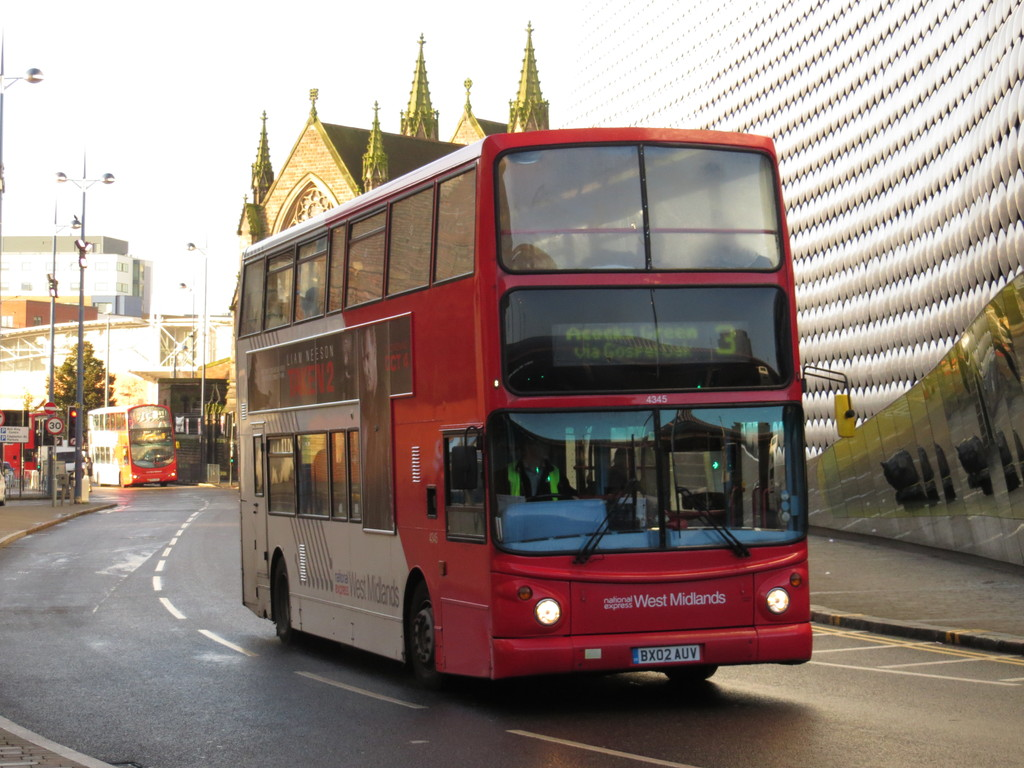Bus: (237, 125, 853, 690), (85, 403, 179, 483)
